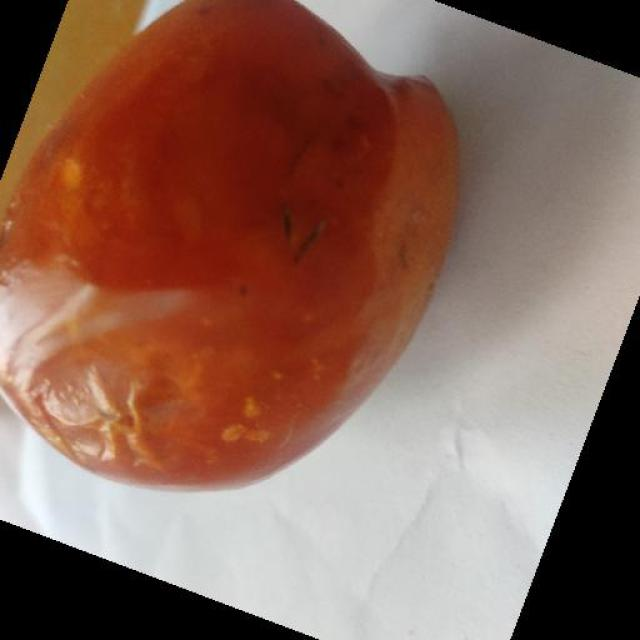Stale_tomato: (23, 0, 420, 471)
